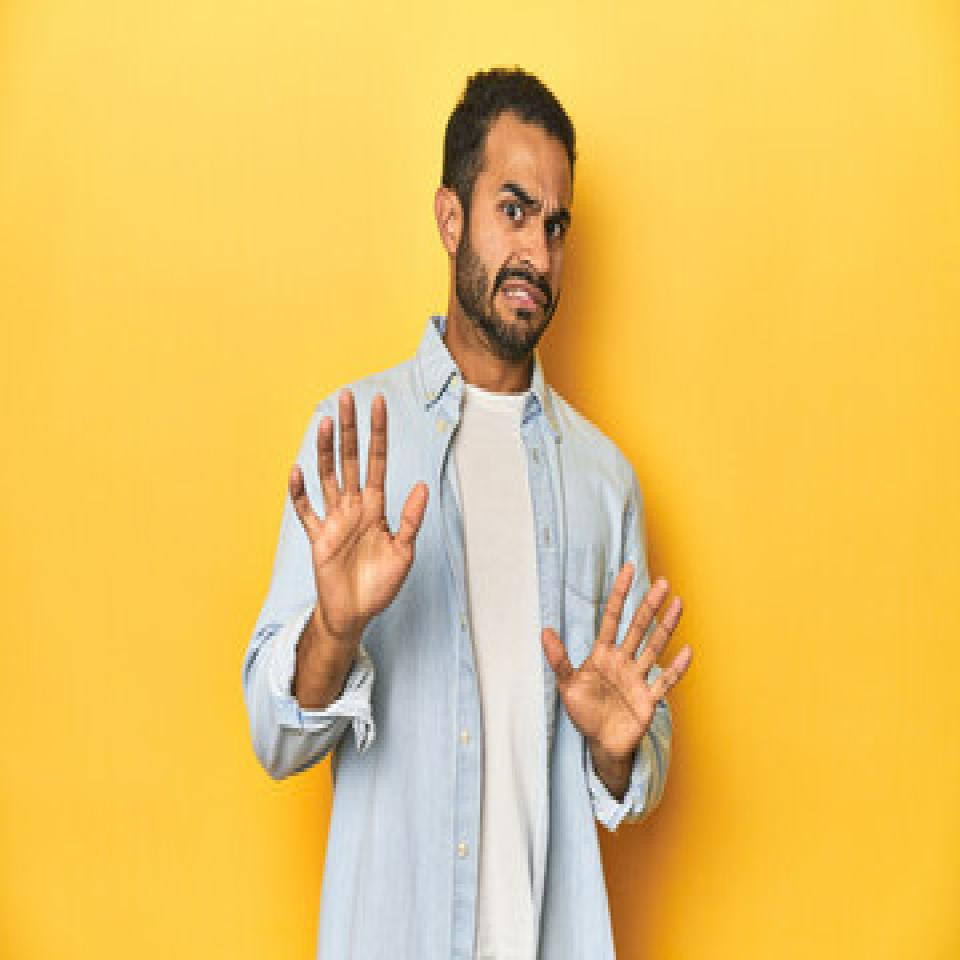Disgust: (460, 117, 574, 359)
